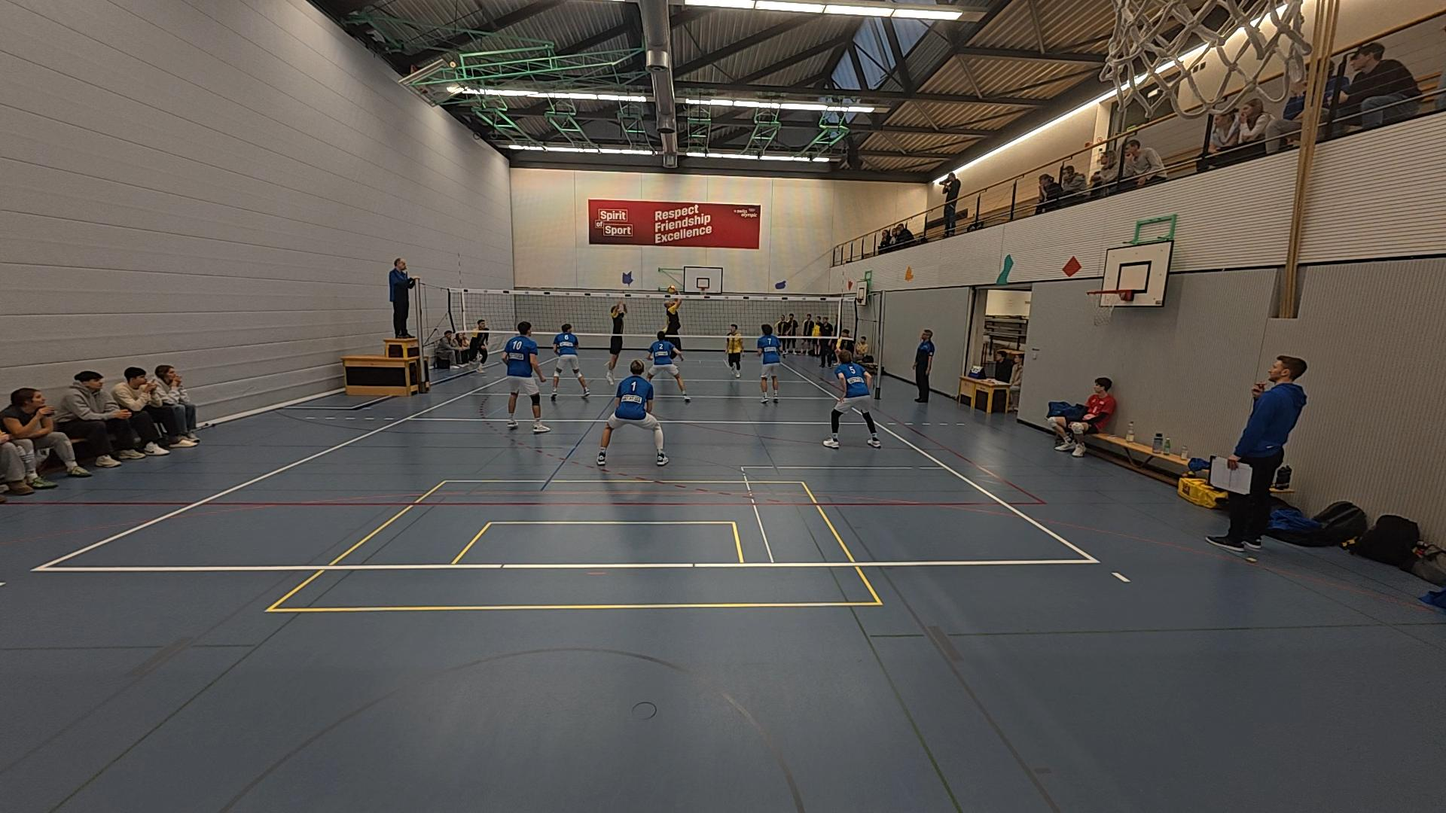Player: (596, 360, 667, 465), (822, 350, 879, 449), (502, 321, 549, 434), (544, 322, 589, 399), (645, 328, 689, 403), (753, 321, 782, 404), (602, 297, 631, 380), (464, 314, 492, 378), (724, 324, 744, 379), (835, 329, 855, 368)
Set: (662, 282, 684, 360)
ball: (901, 265, 916, 280), (660, 284, 675, 295)
